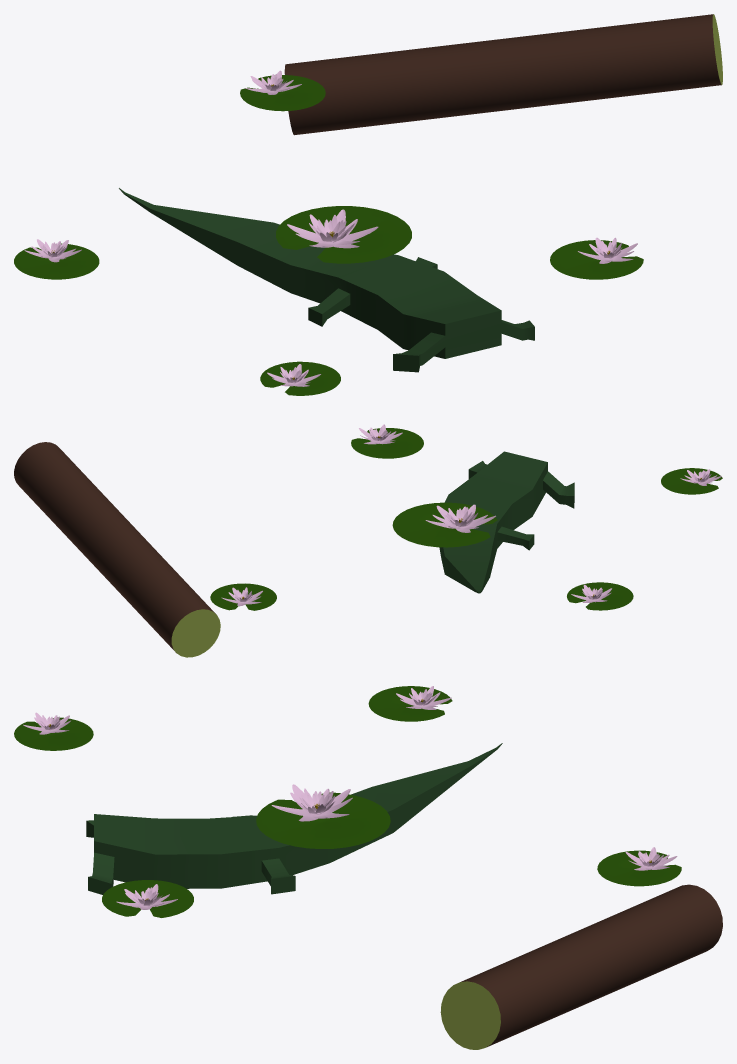
File: TerrainCrocodile.dae
3 renders of one model, top to bottom at view 1: azimuth 30°, elevation 25°; view 2: azimuth 150°, elevation 25°; view 3: azimuth 270°, elevation 25°, orthographic. The views are drawn at different scales.
Parts seen in each view (by area): view 1: treetrunk, crocodile_body, waterlily.002, waterlily, waterlily.004, waterlily.003, waterlily_flower.002, waterlily.001, waterlily_flower, waterlily_flower.004, waterlily_flower.003; view 2: treetrunk, crocodile_body, waterlily.002, waterlily, waterlily.004, waterlily.003, waterlily.001, waterlily_flower.002, waterlily_flower, waterlily_flower.003, waterlily_flower.004; view 3: treetrunk, crocodile_body, waterlily.002, waterlily, waterlily.003, waterlily.004, waterlily.001, waterlily_flower.002, waterlily_flower, waterlily_flower.004, waterlily_flower.003.
Part boxes in pixels (x1,y1,x2,y2): treetrunk: (284,14,722,135); crocodile_body: (119,188,534,372); waterlily.002: (276,206,411,263); waterlily: (550,240,643,279); waterlily.004: (14,243,99,279); waterlily.003: (240,75,325,111); waterlily_flower.002: (287,209,378,248); waterlily.001: (260,361,340,395); waterlily_flower: (578,237,637,263); waterlily_flower.004: (24,239,81,262); waterlily_flower.003: (245,70,301,94); treetrunk: (14,442,220,657); crocodile_body: (439,451,574,593); waterlily.002: (392,502,497,547); waterlily: (351,428,423,458); waterlily.004: (567,582,633,610); waterlily.003: (210,583,276,610); waterlily.001: (661,468,722,494); waterlily_flower.002: (425,504,495,532); waterlily_flower: (359,424,402,444); waterlily_flower.003: (221,587,262,606); waterlily_flower.004: (571,584,612,602); treetrunk: (440,884,722,1049); crocodile_body: (86,743,502,894); waterlily.002: (256,792,390,848); waterlily: (102,880,193,917); waterlily.003: (597,850,681,886); waterlily.004: (368,686,452,721); waterlily.001: (14,717,93,750); waterlily_flower.002: (271,784,352,821); waterlily_flower: (116,884,177,909); waterlily_flower.004: (396,686,451,709); waterlily_flower.003: (625,847,677,870).
Size of what is drawn, in the model's own units: 8.32 by 6.95 by 1.28.
